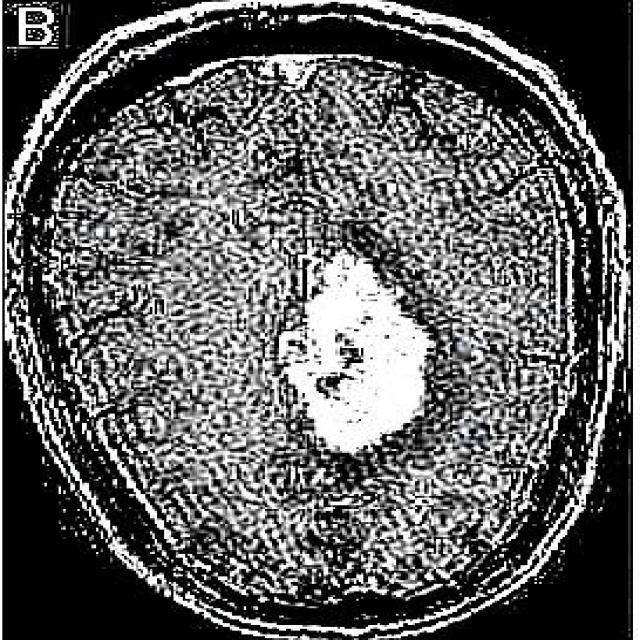tumor: (277, 253, 436, 457)
